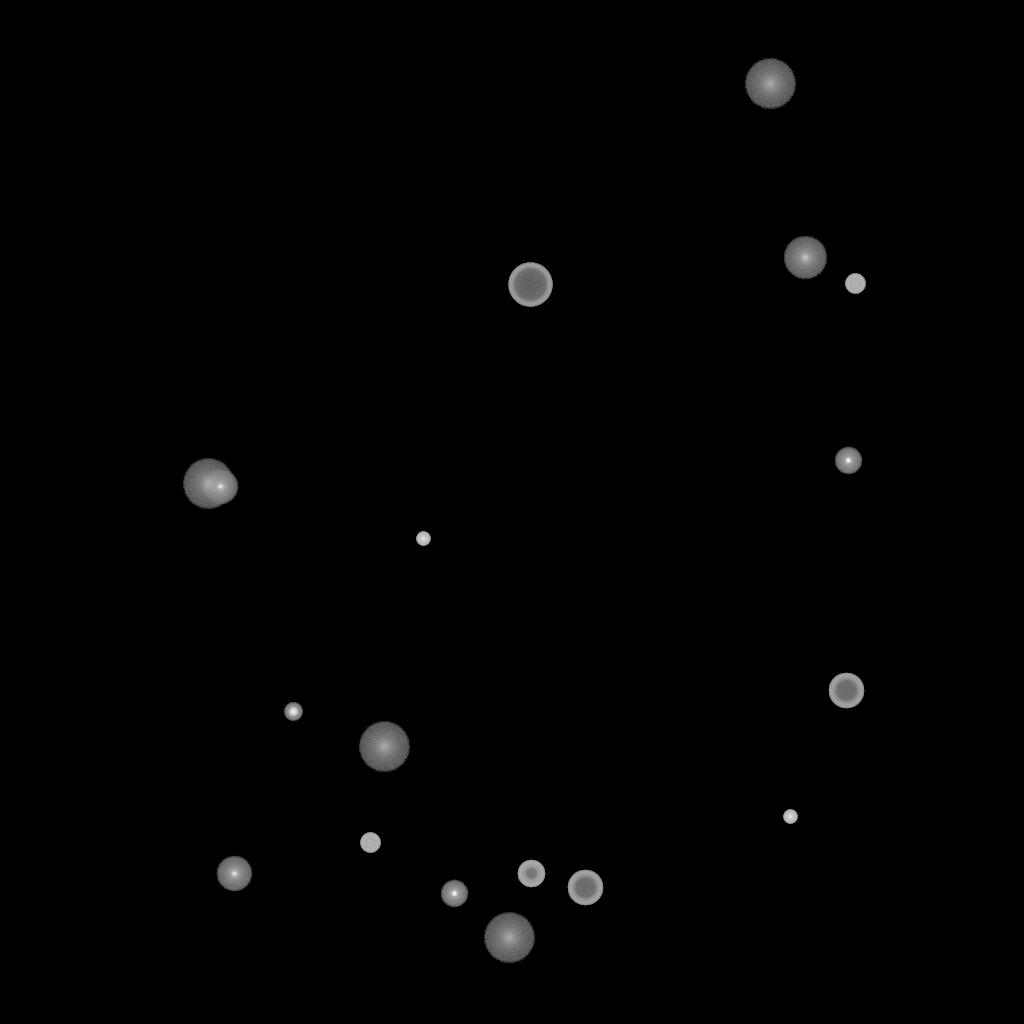depth:-10: (834, 447, 862, 475), (440, 880, 468, 908)
depth:-20: (284, 703, 302, 721)
depth:-30: (416, 532, 430, 546), (783, 810, 797, 824)
depth:-40: (845, 274, 865, 294), (360, 833, 380, 853)
depth:-50: (517, 860, 545, 888)
depth:-60: (567, 870, 603, 906), (828, 673, 864, 709)
depth:-70: (508, 263, 552, 307)
depth:0: (216, 856, 252, 892), (202, 469, 238, 505)
depth:10: (783, 236, 827, 280)
depth:20: (744, 59, 796, 109), (182, 459, 234, 509), (358, 722, 410, 772), (483, 913, 535, 963)
